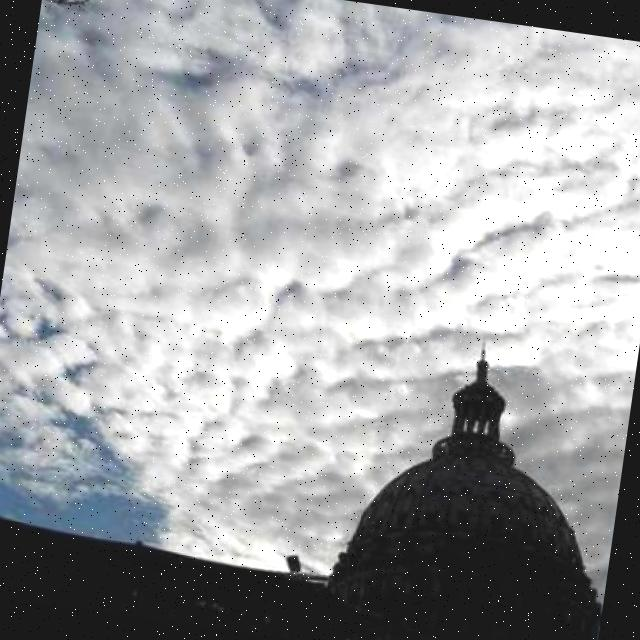Ac: (23, 1, 640, 349)
